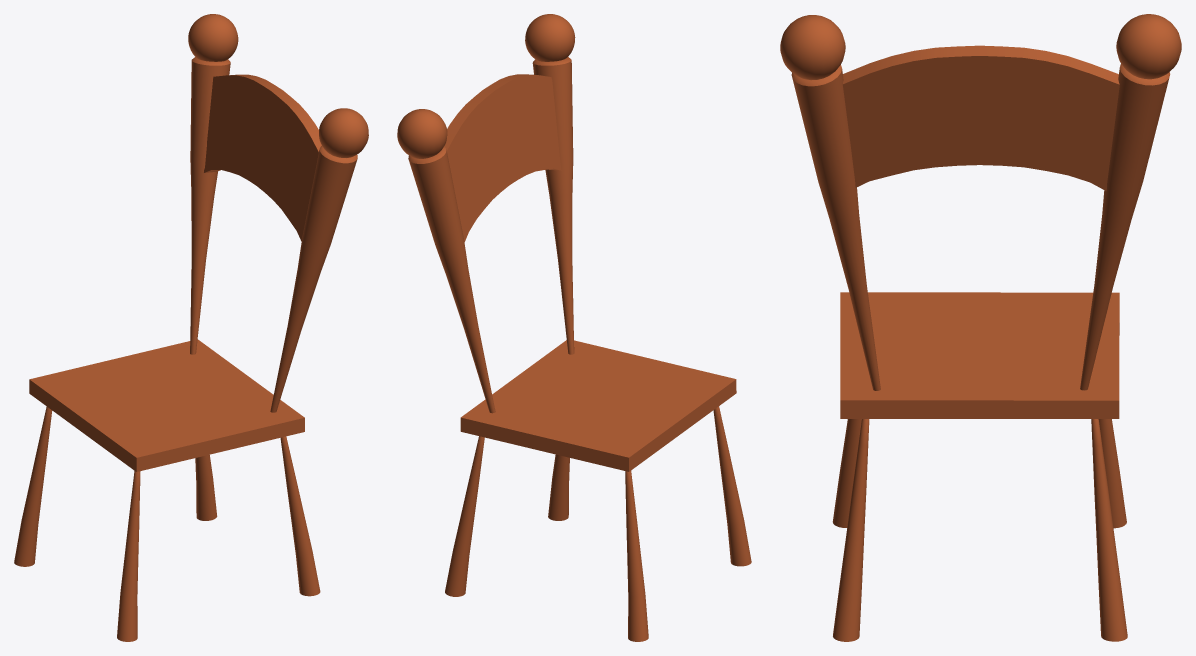
The model's file is silla.obj.
The picture shows the model from 3 angles, left to right: view 1: azimuth 30°, elevation 25°; view 2: azimuth 150°, elevation 25°; view 3: azimuth 270°, elevation 25°; orthographic projection. The views are drawn at different scales.
Visible parts, largest first — view 1: polySurface44; view 2: polySurface44; view 3: polySurface44.
Part boxes in pixels (x1,y1,x2,y2): polySurface44: (14, 14, 368, 641); polySurface44: (397, 14, 751, 641); polySurface44: (780, 14, 1181, 641).
Bounding box in the file's own units: 1.52 × 3.01 × 1.73.
Materials: 1 (1 with a texture image).
